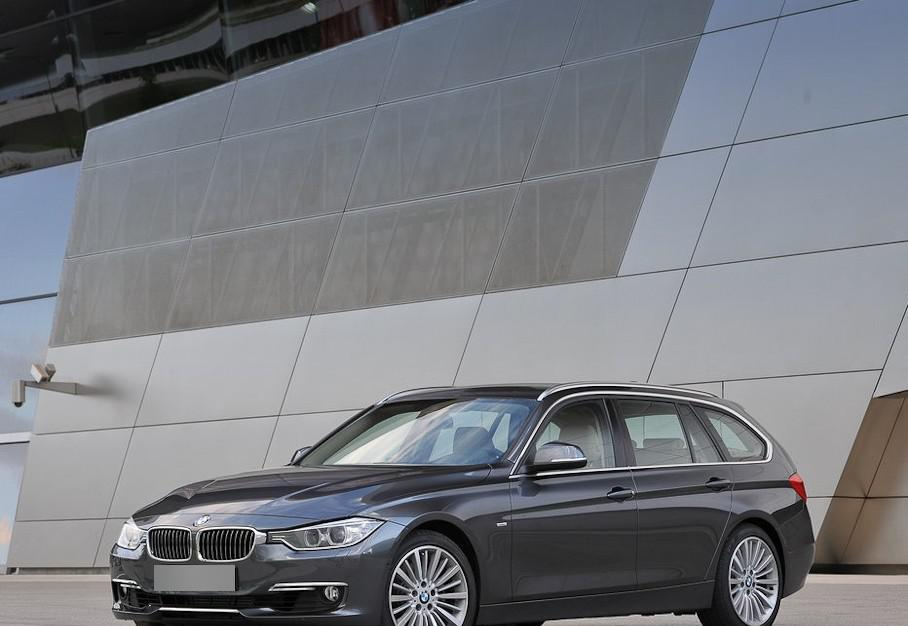Wagon: (111, 382, 815, 626)
